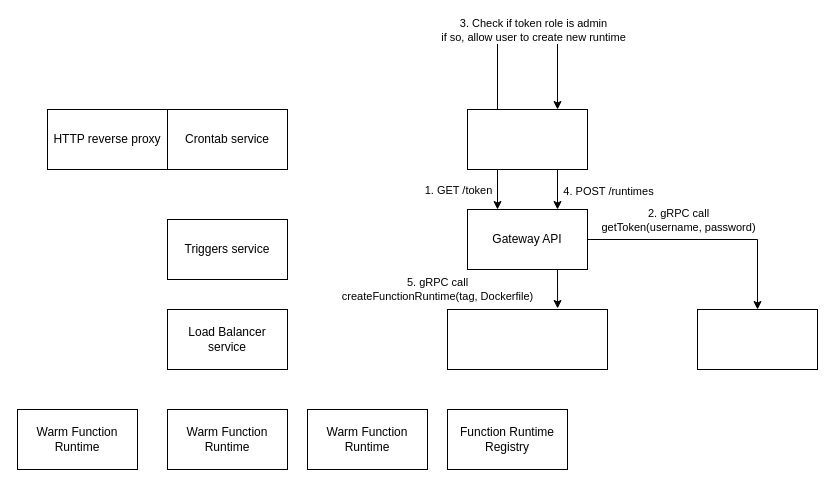
This 835x487 diagram has some shape labels left out. The centre of each missing label's shape, as x and y in pixels:
"Frontend" belongs at point (527, 139).
"Function Runtime service" belongs at point (527, 339).
"Users service" belongs at point (757, 339).
